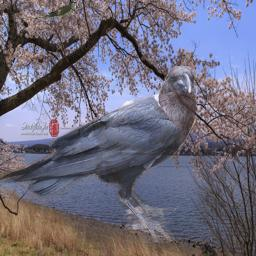Crow: (0, 66, 197, 243)
Cuckoo: (32, 0, 76, 20)
